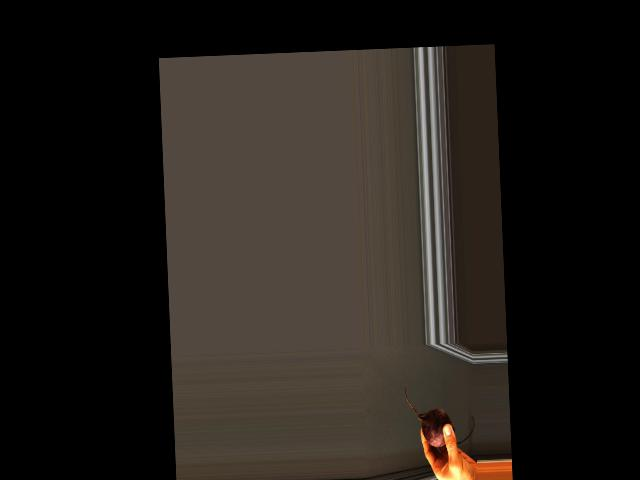beet: (405, 383, 475, 447)
